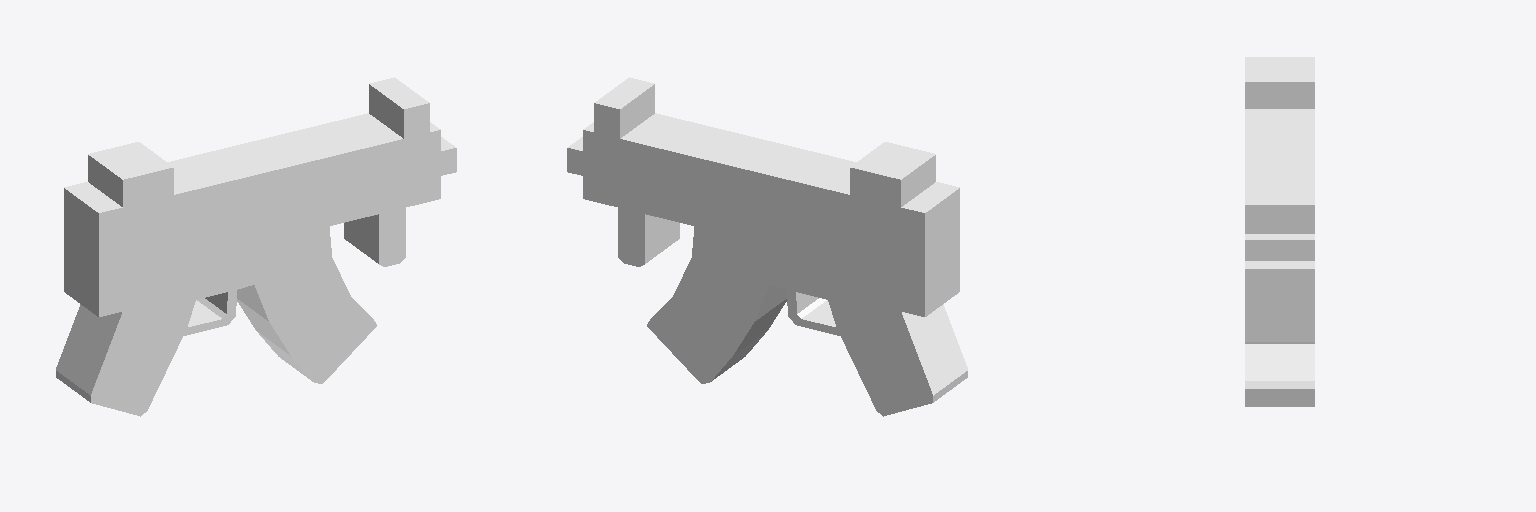
Rendered from SciFi_Icon_Weapon.obj.
The picture shows the model from 3 angles: view 1: azimuth 30°, elevation 25°; view 2: azimuth 150°, elevation 25°; view 3: azimuth 270°, elevation 25°; orthographic projection.
Visible parts, largest first — view 1: SM_Icon_Gun; view 2: SM_Icon_Gun; view 3: SM_Icon_Gun.
Boxes of the visible parts, x1=… form: SM_Icon_Gun: x1=56, y1=77, x2=456, y2=416; SM_Icon_Gun: x1=567, y1=77, x2=967, y2=416; SM_Icon_Gun: x1=1245, y1=57, x2=1314, y2=406.
Size of the model in its own units: 1.5 by 1 by 0.25.